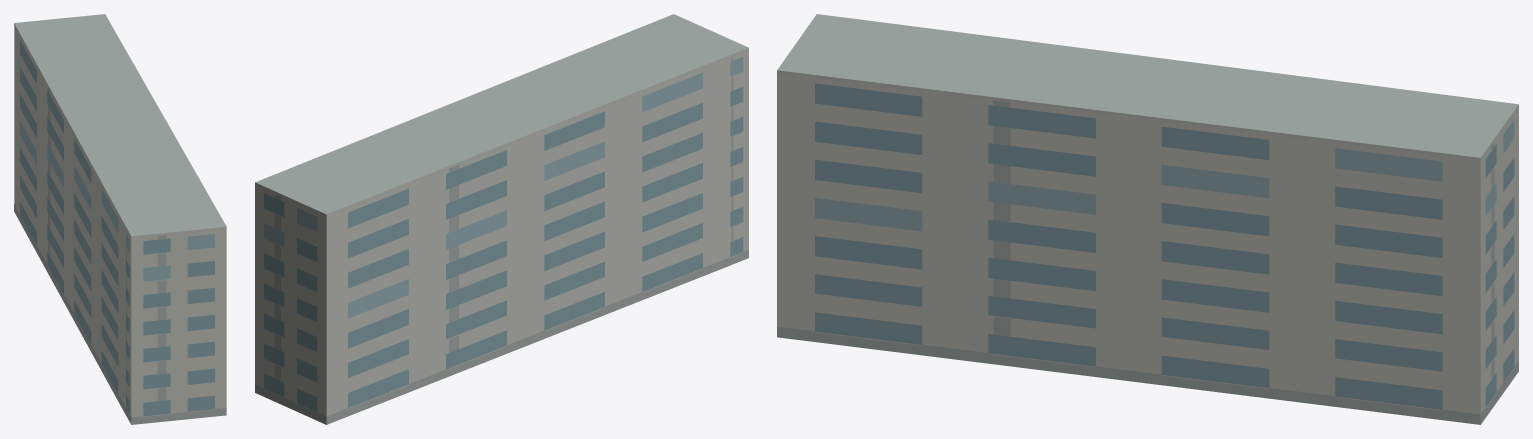
Rendered from survey-upis-33021000.glb.
3 views of the same model, side by side, from view 1: azimuth 30°, elevation 25°; view 2: azimuth 150°, elevation 25°; view 3: azimuth 270°, elevation 25° (orthographic). The views are drawn at different scales.
Parts seen in each view (by area): view 1: survey-upis-33021000.tmp; view 2: survey-upis-33021000.tmp; view 3: survey-upis-33021000.tmp.
Part boxes in pixels (x1=…): survey-upis-33021000.tmp: x1=14, y1=14, x2=226, y2=424; survey-upis-33021000.tmp: x1=255, y1=14, x2=748, y2=424; survey-upis-33021000.tmp: x1=777, y1=14, x2=1518, y2=424.
Bounding box in the file's own units: 23.34 × 20.2 × 50.85.
